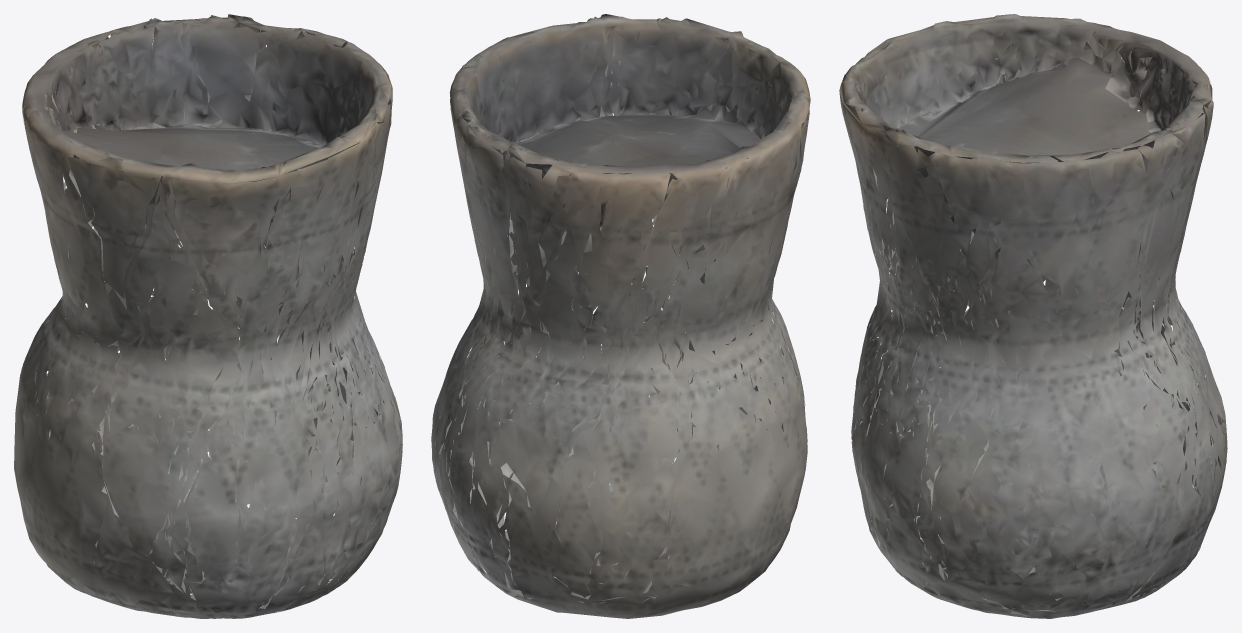
Rendered from hm-replica-beaker-pit-fired.glb.
3 views of the same model, side by side, from view 1: azimuth 30°, elevation 25°; view 2: azimuth 150°, elevation 25°; view 3: azimuth 270°, elevation 25° (orthographic). The views are drawn at different scales.
Parts seen in each view (by area): view 1: Object_4, Object_5, Object_2, Object_3, Object_6; view 2: Object_2, Object_4, Object_5, Object_3, Object_6; view 3: Object_3, Object_4, Object_5, Object_2, Object_6.
Boxes of the visible parts, x1,y1,x2,y2 form: Object_4: (21,20,401,612); Object_5: (14,181,402,618); Object_2: (20,14,390,618); Object_3: (25,14,402,618); Object_6: (18,223,391,473); Object_2: (446,14,810,602); Object_4: (435,27,807,601); Object_5: (432,203,806,618); Object_3: (431,26,810,603); Object_6: (448,225,803,466); Object_3: (839,33,1226,612); Object_4: (842,39,1225,614); Object_5: (851,222,1227,618); Object_2: (841,14,1227,617); Object_6: (856,237,1213,449).
Size of the model in its own units: 0.128 by 0.1798 by 0.1299.
1 material, 1 textured.
